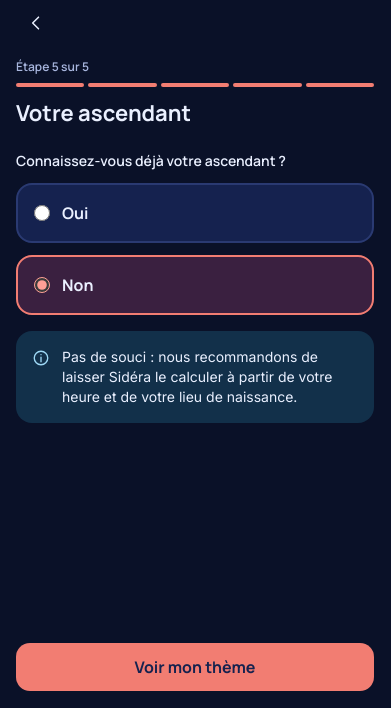
OnboardingFlow › does not end the journey when the final validation fails
Click the button "Voir mon thème": (195, 667) [16, 643, 374, 691]
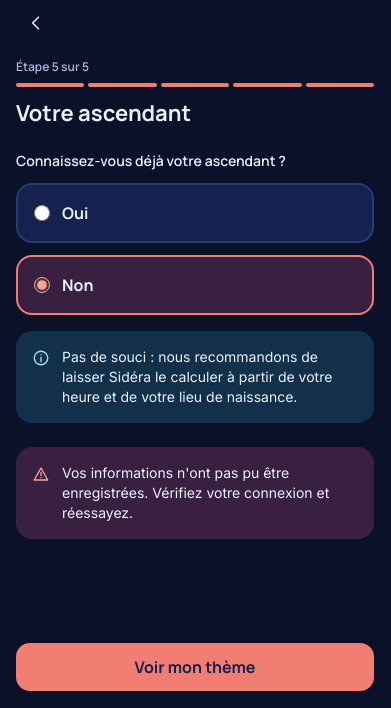
Check: the message shows "Vos informations n'ont pas pu être enregistrées.", box [62, 464, 329, 521]
